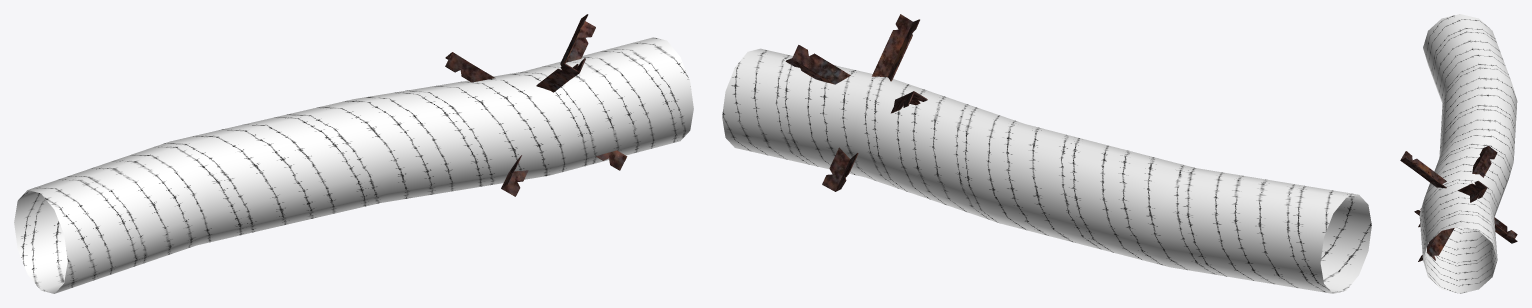
Rendered from hedgehog_barb_1.obj.
3 renders of one model, left to right at view 1: azimuth 30°, elevation 25°; view 2: azimuth 150°, elevation 25°; view 3: azimuth 270°, elevation 25°, orthographic. The views are drawn at different scales.
Visible parts, largest first — view 1: barbwire, hedgehog; view 2: barbwire, hedgehog; view 3: barbwire, hedgehog.
Part boxes in pixels (<box>): barbwire: <box>14,37,693,293</box>; hedgehog: <box>445,14,627,196</box>; barbwire: <box>722,48,1371,293</box>; hedgehog: <box>785,14,927,191</box>; barbwire: <box>1419,14,1517,293</box>; hedgehog: <box>1400,146,1517,261</box>.
Size of the model in its own units: 231 by 48.63 by 54.05.
2 materials, 2 textured.
